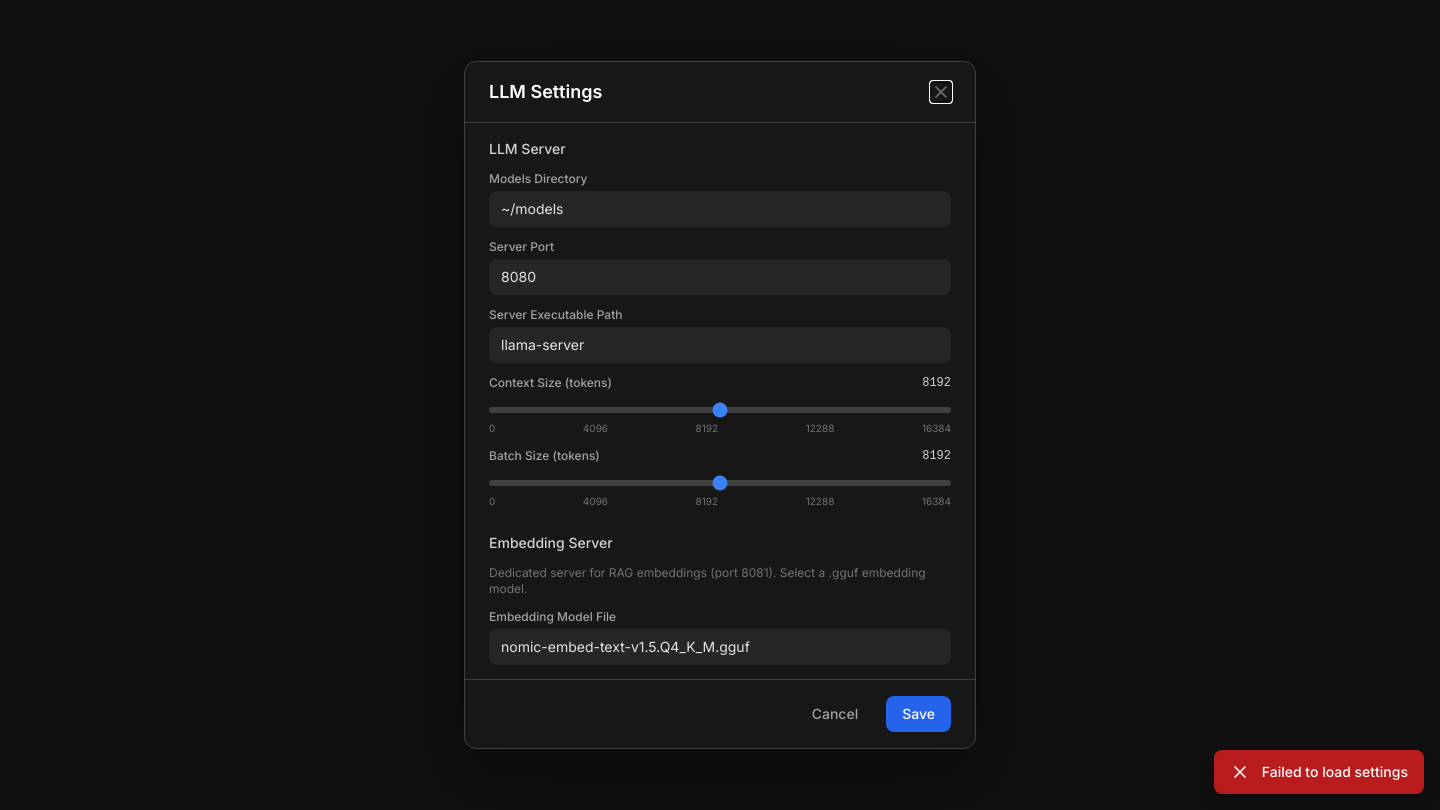
Test case: SettingsModal › should show validation error for port out of range
The image size is (1440, 810).
Step 1. Type "80" into the number field labelled "Server Port" → (720, 277), box [489,259,951,295]
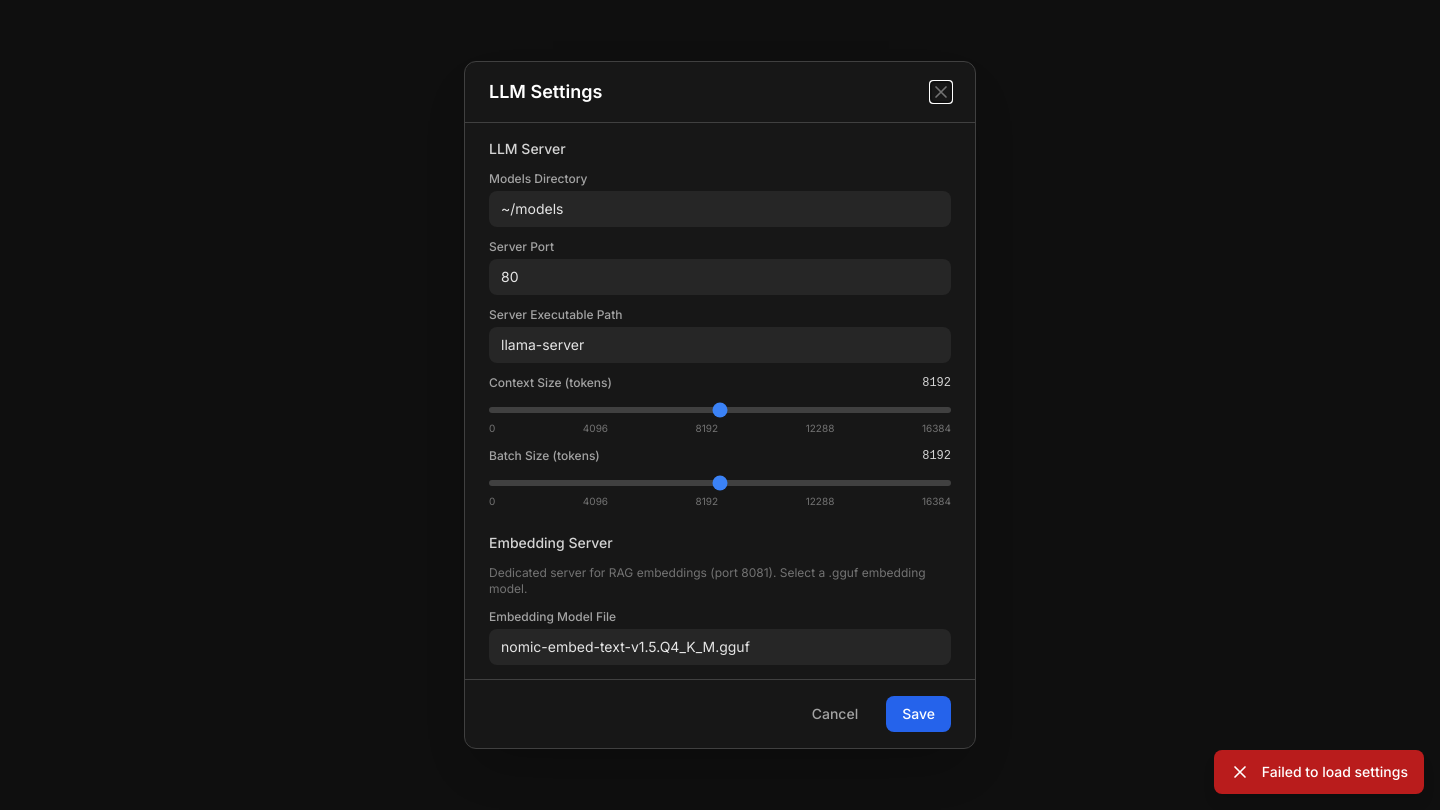
Step 2. Click the button with test id "settings-save-btn" → (919, 714), box [886,696,951,732]
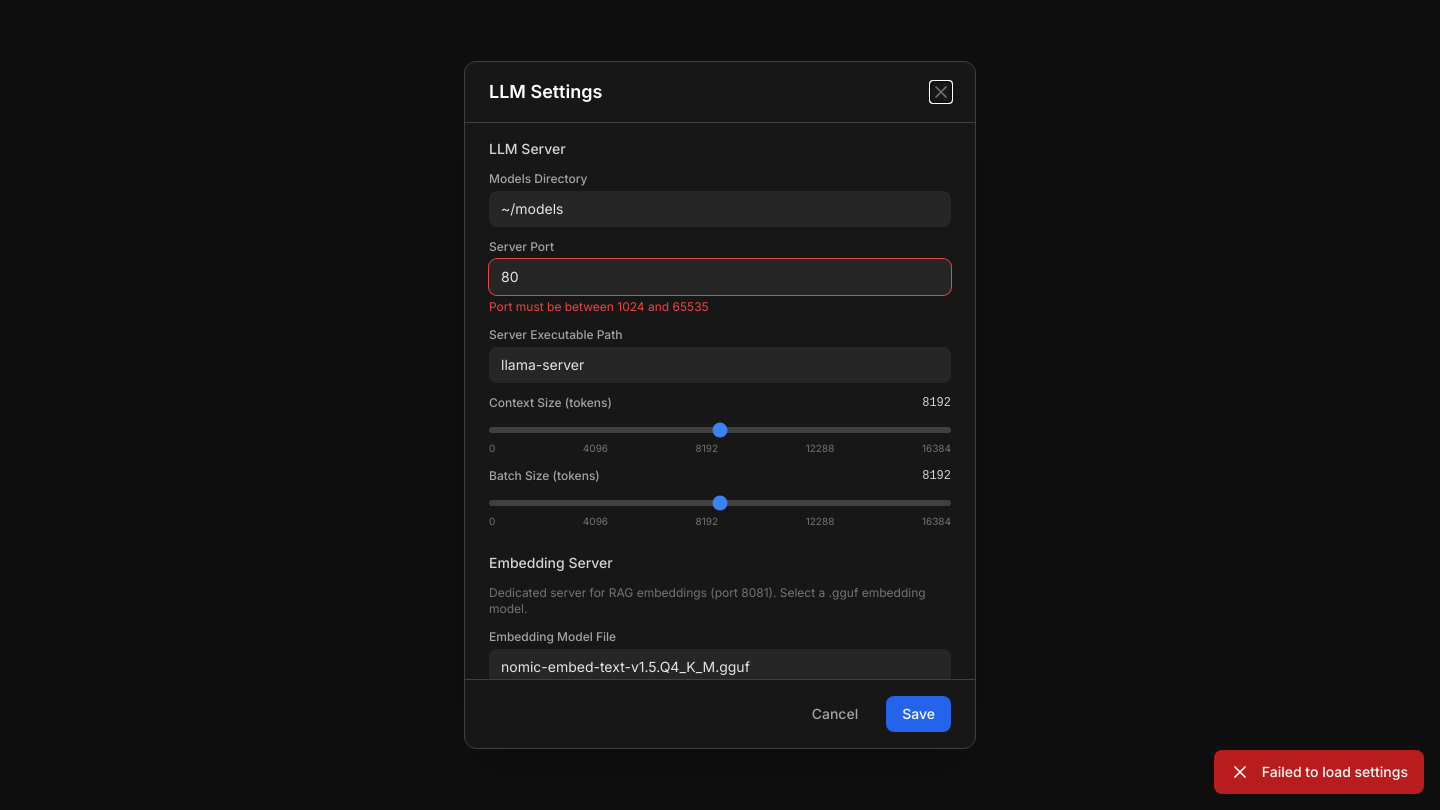
Check: the message with test id "error-llamaServerPort" shows "1024", box [489,299,709,314]
